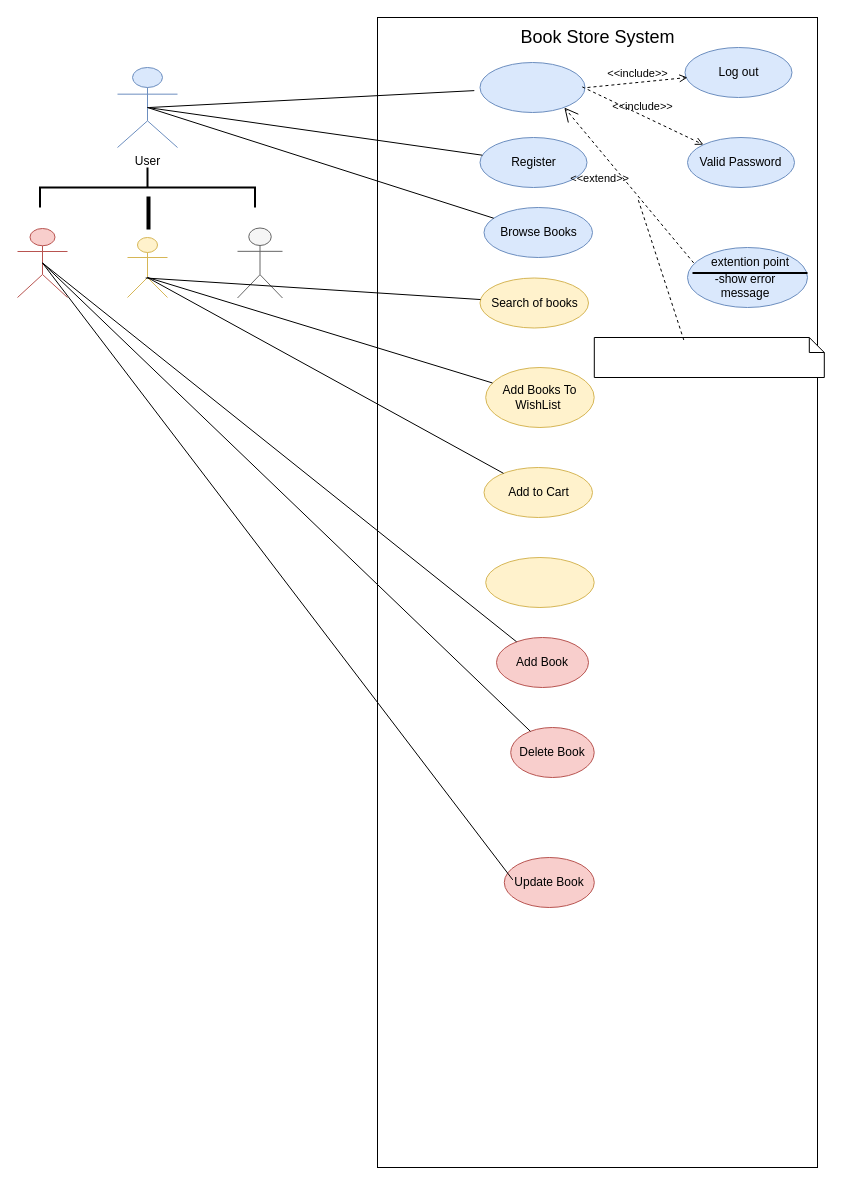
The diagram is 842 pixels wide and 1185 high, and some of its shapes have lost their labels. The centre of each missing label's shape, as x and y in pixels:
"Admin" belongs at (x=42, y=263).
"condition: { when invalid log in}" belongs at (x=708, y=357).
"Customer" belongs at (x=147, y=267).
"Guest" belongs at (x=259, y=262).
"Login" belongs at (x=532, y=87).
"View Book Details" belongs at (x=539, y=582).
